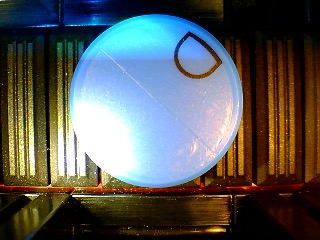MIPO1: (69, 14, 244, 187)
